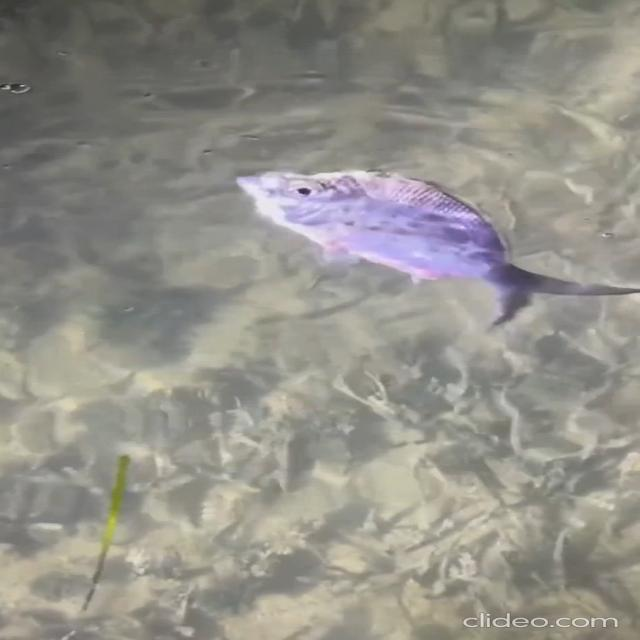fish: (222, 145, 640, 335)
